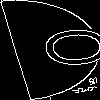O: (25, 25, 100, 71)
